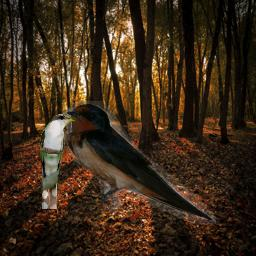Cuckoo: (39, 113, 78, 209)
Swallow: (62, 101, 216, 224)
